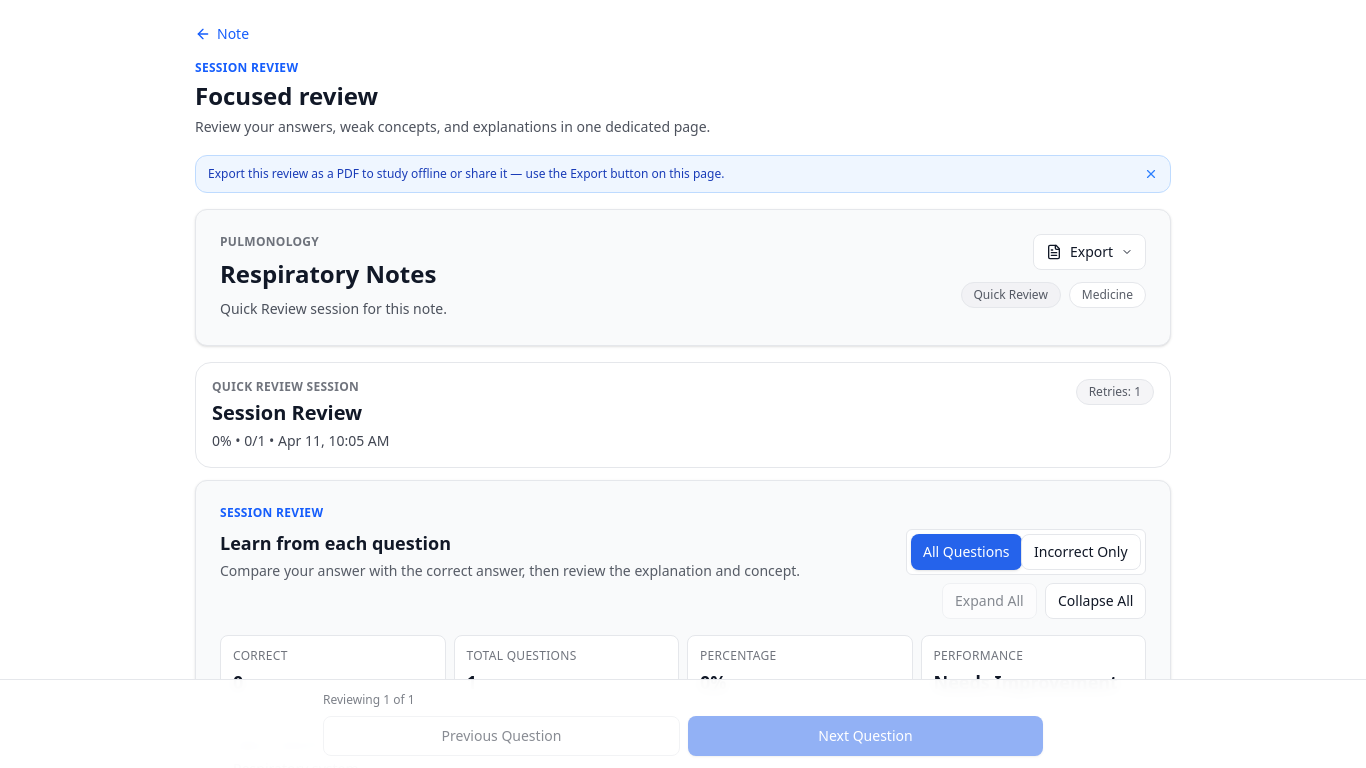
Test case: NoteSessionReviewPageClient › shows Full Review, Mistakes, Weak Concepts, and disabled Adaptive Practice when Export is clicked
Step 1. Click the button "Export" → {"x": 1089, "y": 252}, box [1033, 234, 1146, 270]
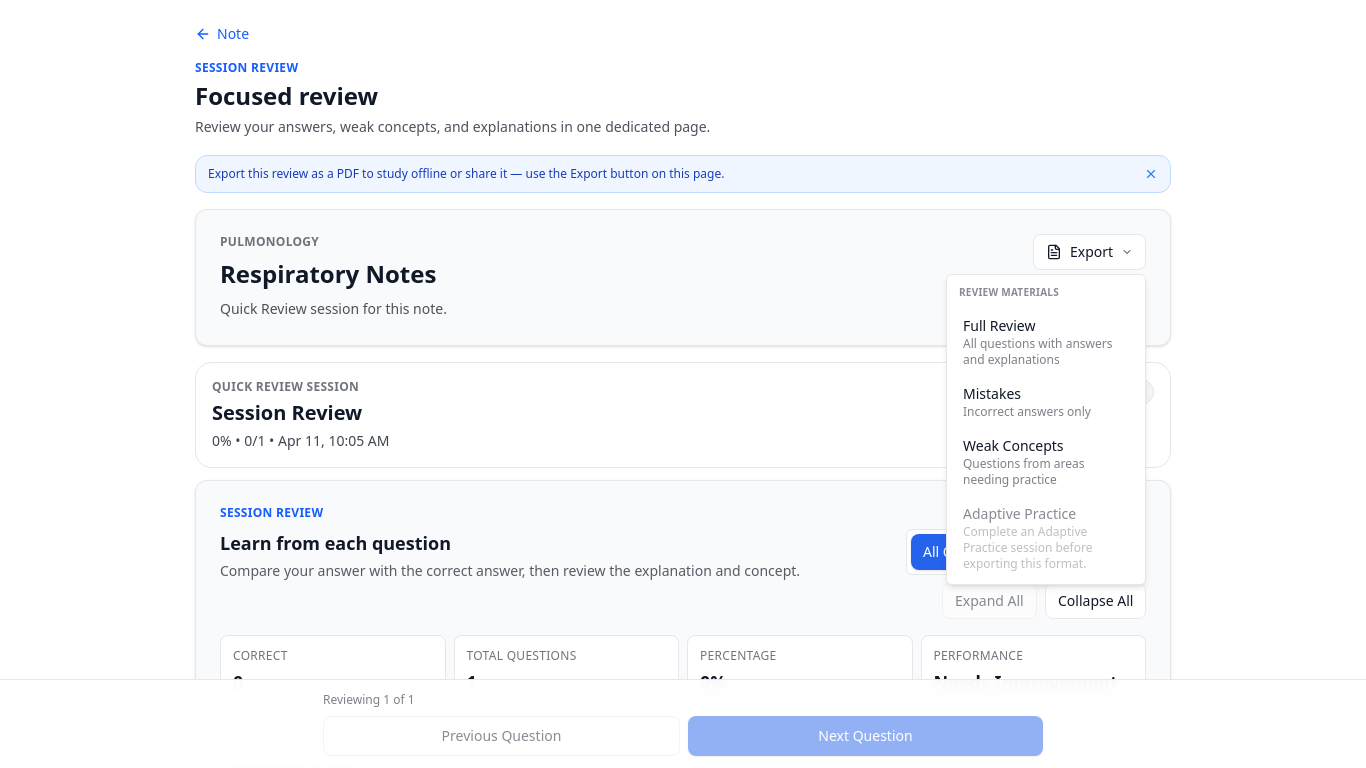
Expected: the button "Adaptive Practice" is disabled, [951, 496, 1141, 580]
